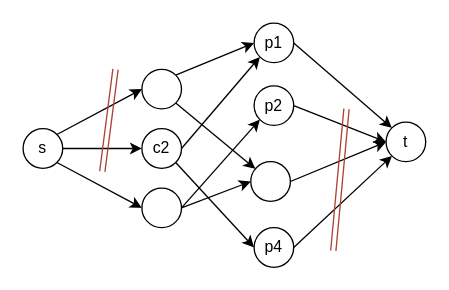
The diagram is 449 pixels wide and 290 high, and some of its shapes have lost their labels. The shapes that lost their labels are listed below. From the top down, each one's centre as x and y in pixels, then its label:
(x=161, y=88): c1
(x=269, y=180): p3
(x=161, y=207): c3
